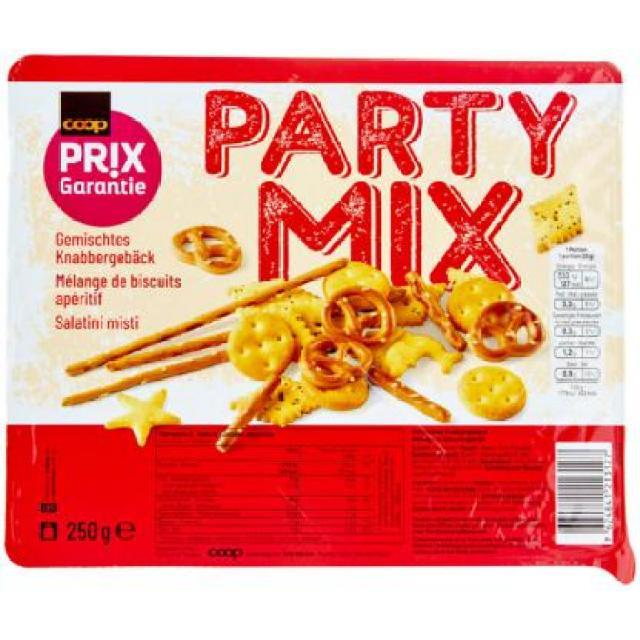Salatini: (3, 52, 640, 590)
